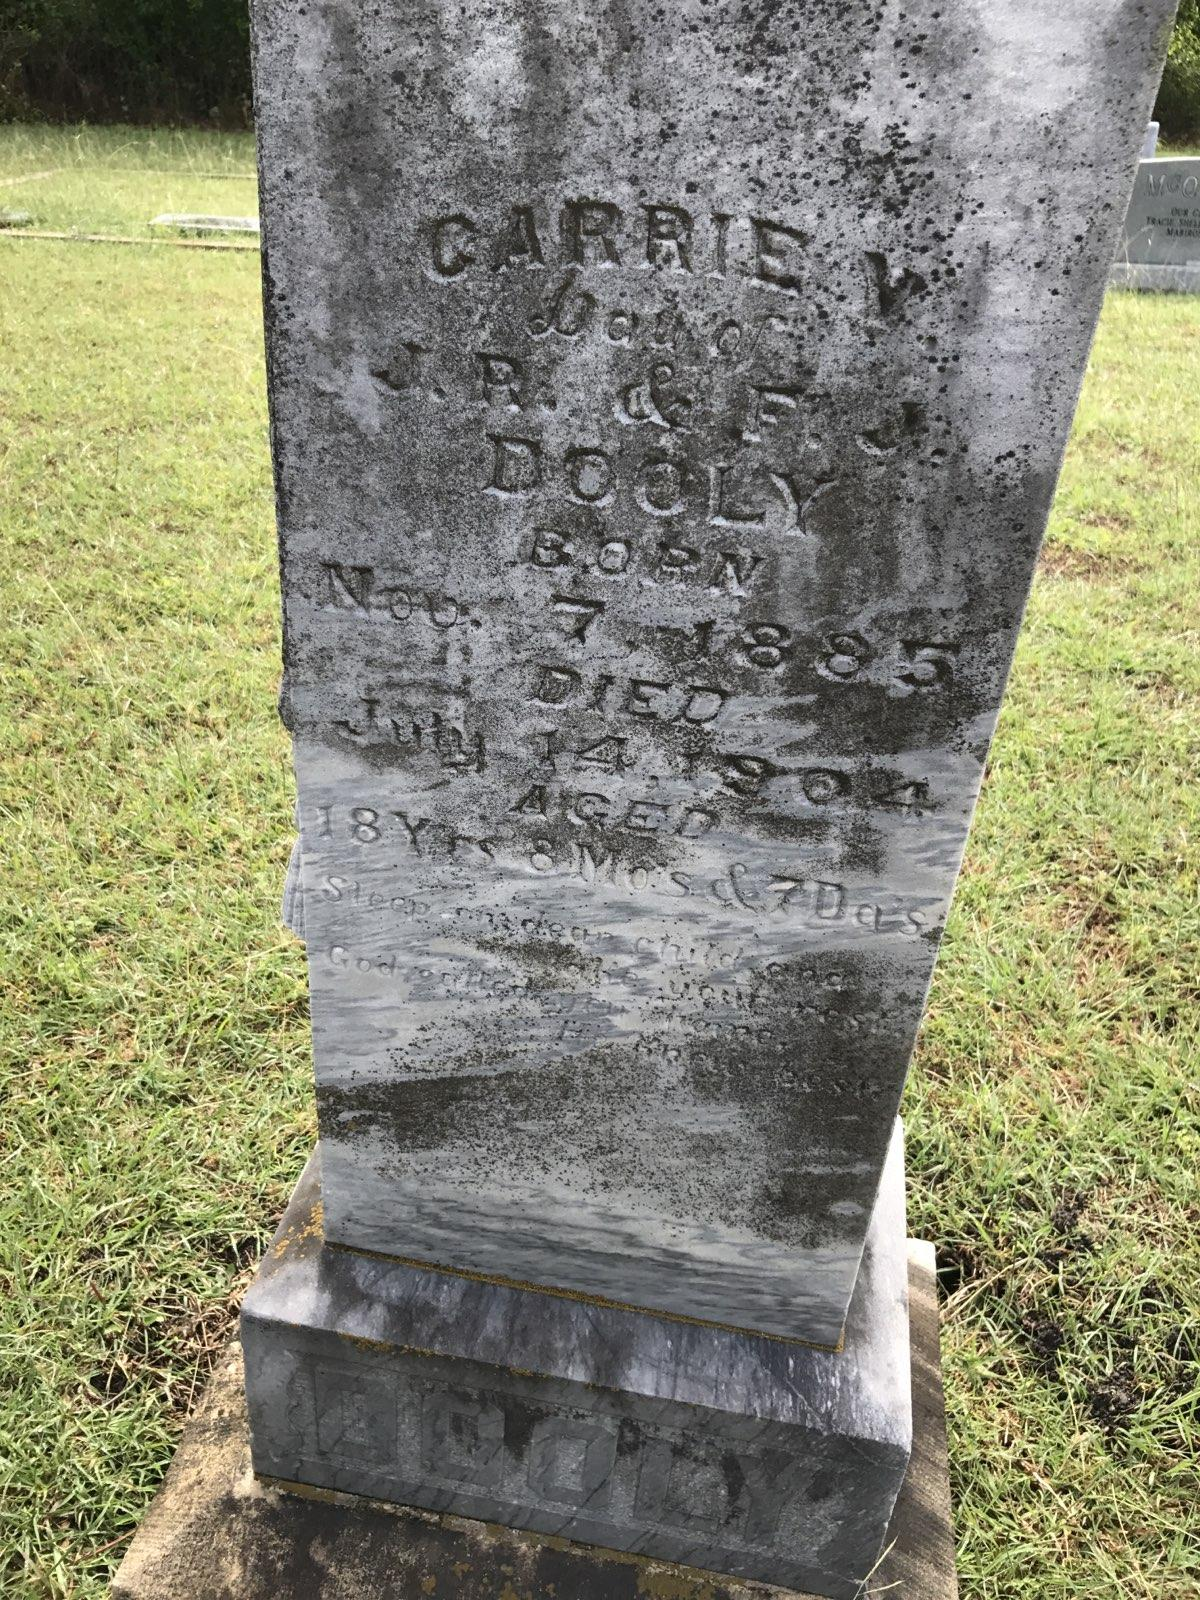upright: (106, 6, 1177, 1587)
